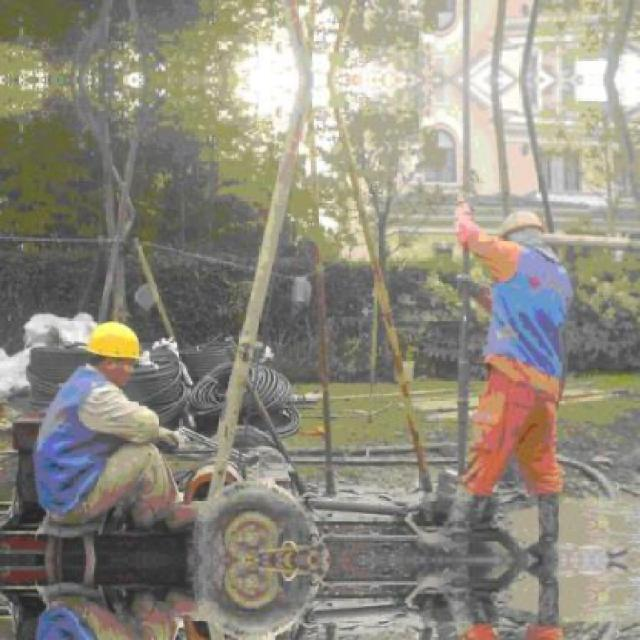con casco: (473, 185, 562, 296), (58, 316, 158, 410)
